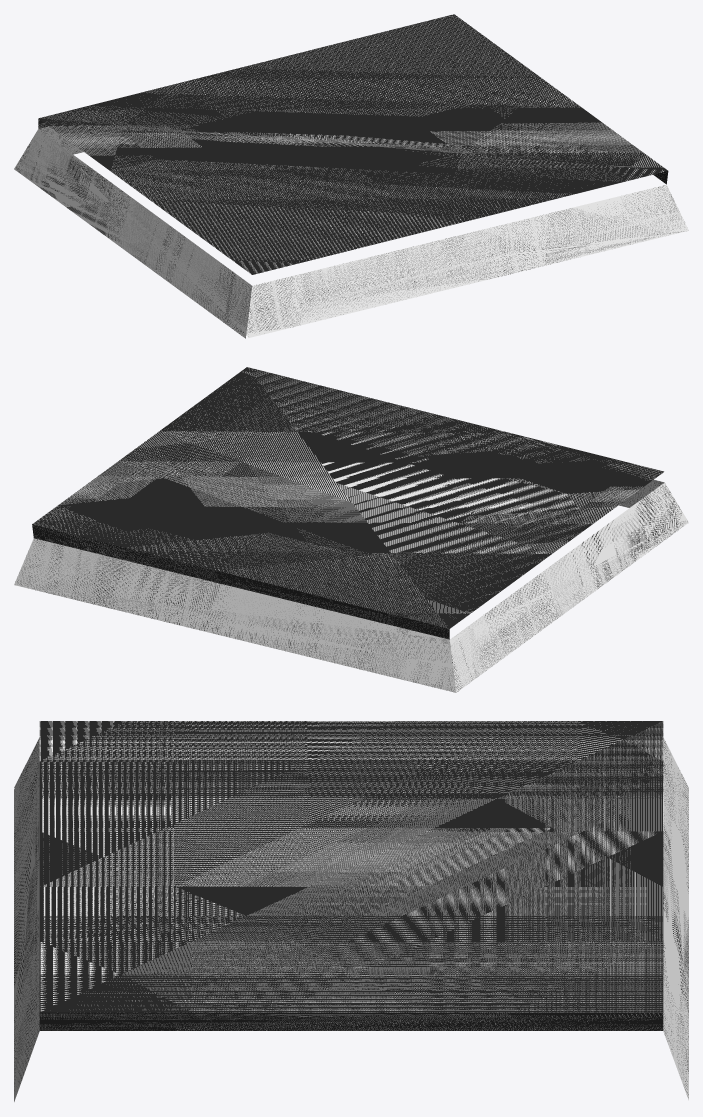
Rendered from original-7.obj.
The picture shows the model from 3 angles, top to bottom: view 1: azimuth 30°, elevation 25°; view 2: azimuth 150°, elevation 25°; view 3: azimuth 270°, elevation 25°; orthographic projection. The views are drawn at different scales.
Parts seen in each view (by area): view 1: tus7/tus/mesh1/mesh1-geometry#mesh1-geometry; view 2: tus7/tus/mesh1/mesh1-geometry#mesh1-geometry; view 3: tus7/tus/mesh1/mesh1-geometry#mesh1-geometry.
Part boxes in pixels (x1,y1,x2,y2): tus7/tus/mesh1/mesh1-geometry#mesh1-geometry: (14,14,688,338); tus7/tus/mesh1/mesh1-geometry#mesh1-geometry: (14,367,688,692); tus7/tus/mesh1/mesh1-geometry#mesh1-geometry: (14,721,688,1101).
Bounding box in the file's own units: 0.0476 × 0.00578 × 0.0432.
